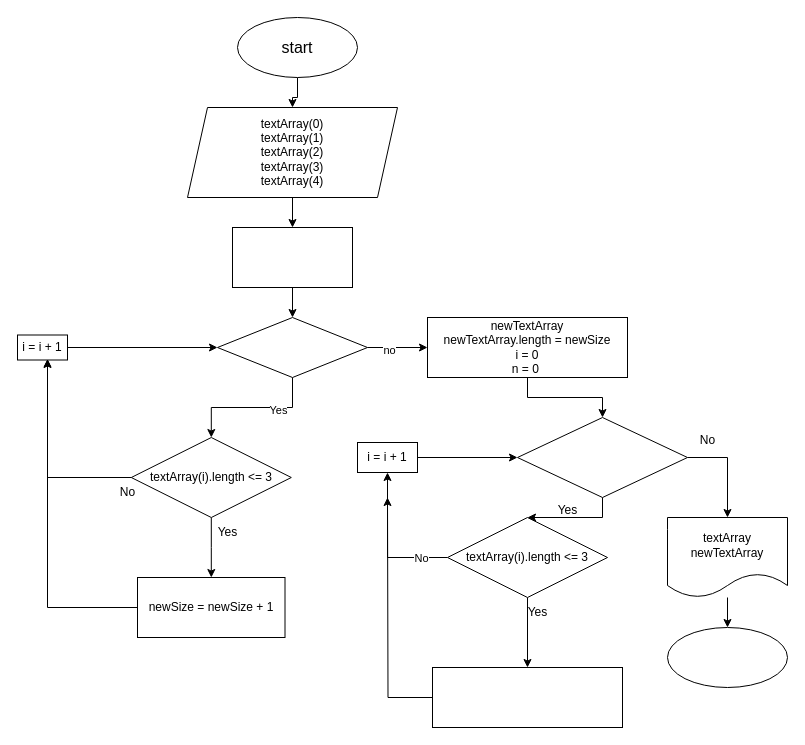
The diagram is 805 pixels wide and 745 high, and some of its shapes have lost their labels. The centre of each missing label's shape, as x and y in pixels:
finish: point (727, 657)
i < newTextArray.length: point (602, 457)
i < textArray.length: point (292, 347)
newTextArray(n) = textArray(i) n = n + 1: point (527, 697)
textArray.length = 5 newSize = 0 i = 0: point (292, 257)
